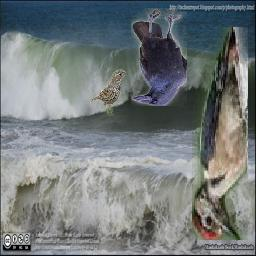Crow: (131, 8, 187, 106)
Sparrow: (90, 68, 126, 116)
Woodpecker: (192, 28, 248, 241)
